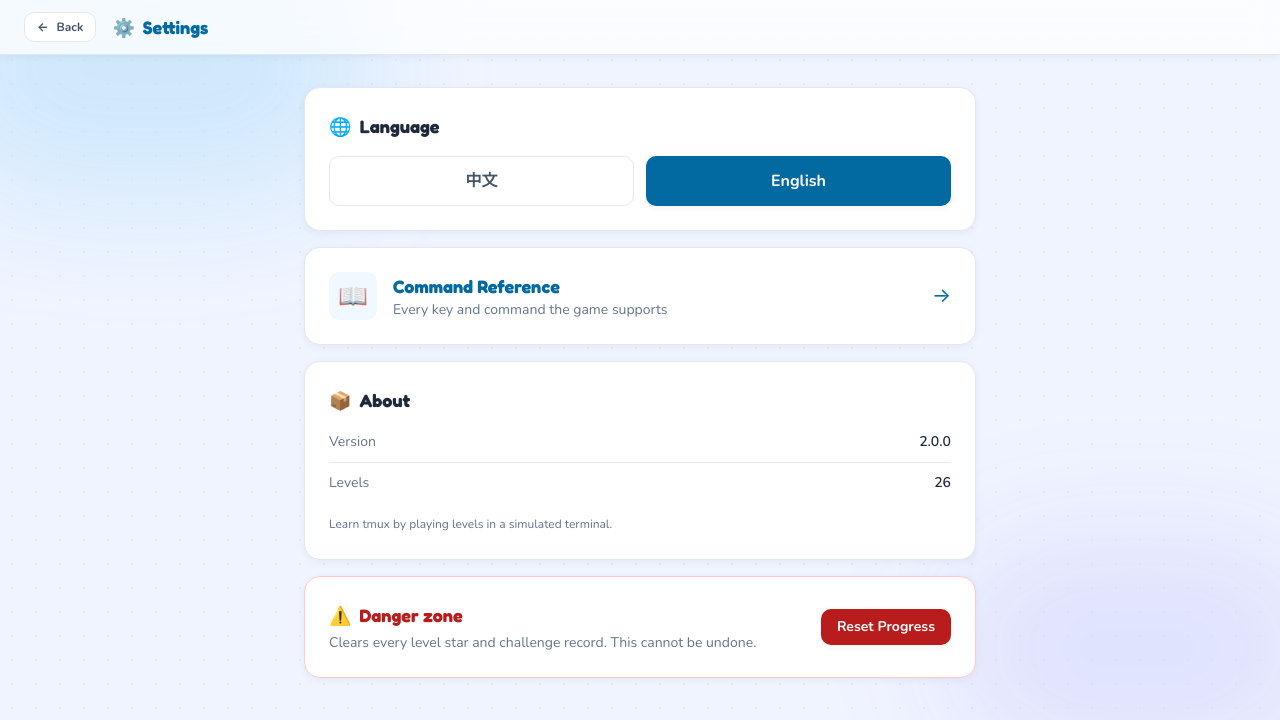
Test case: SettingsScreen › clears the progress when confirmed
Click the button "Reset Progress". click: point(886, 626)
box: left=821, top=608, right=951, bottom=644
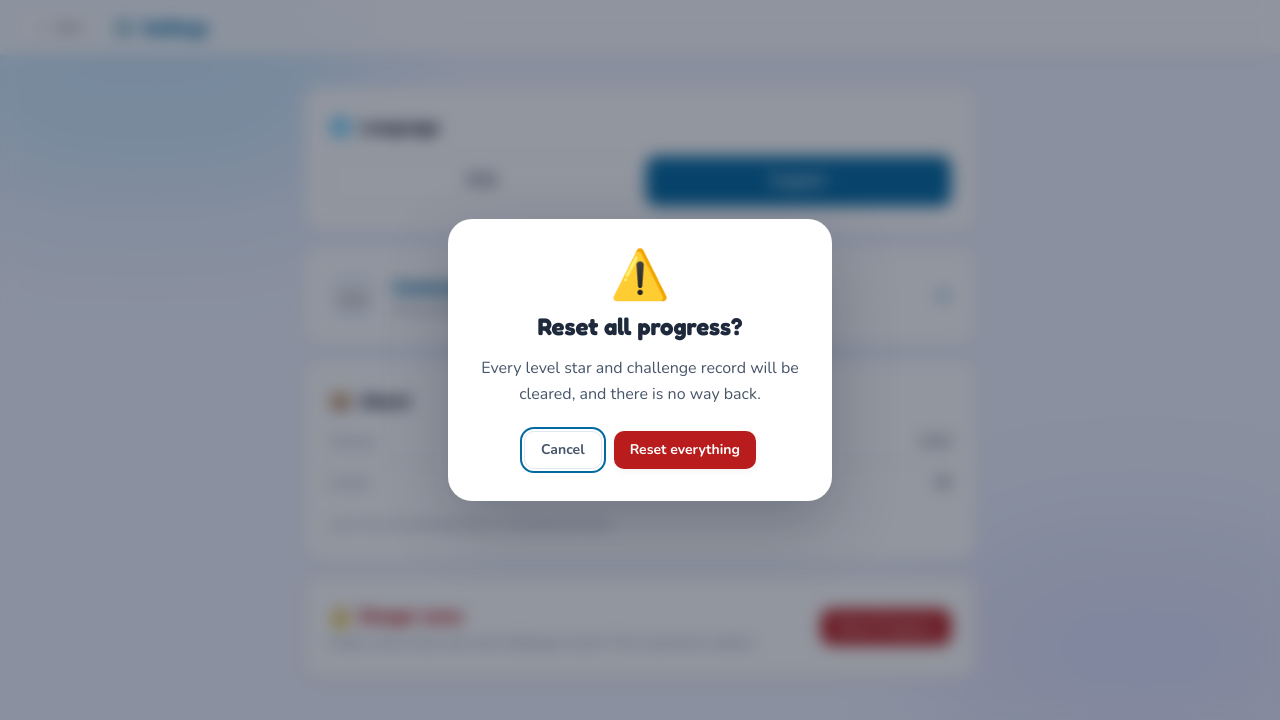
Click the button "Reset everything". click: point(685, 450)
box: left=614, top=431, right=756, bottom=469
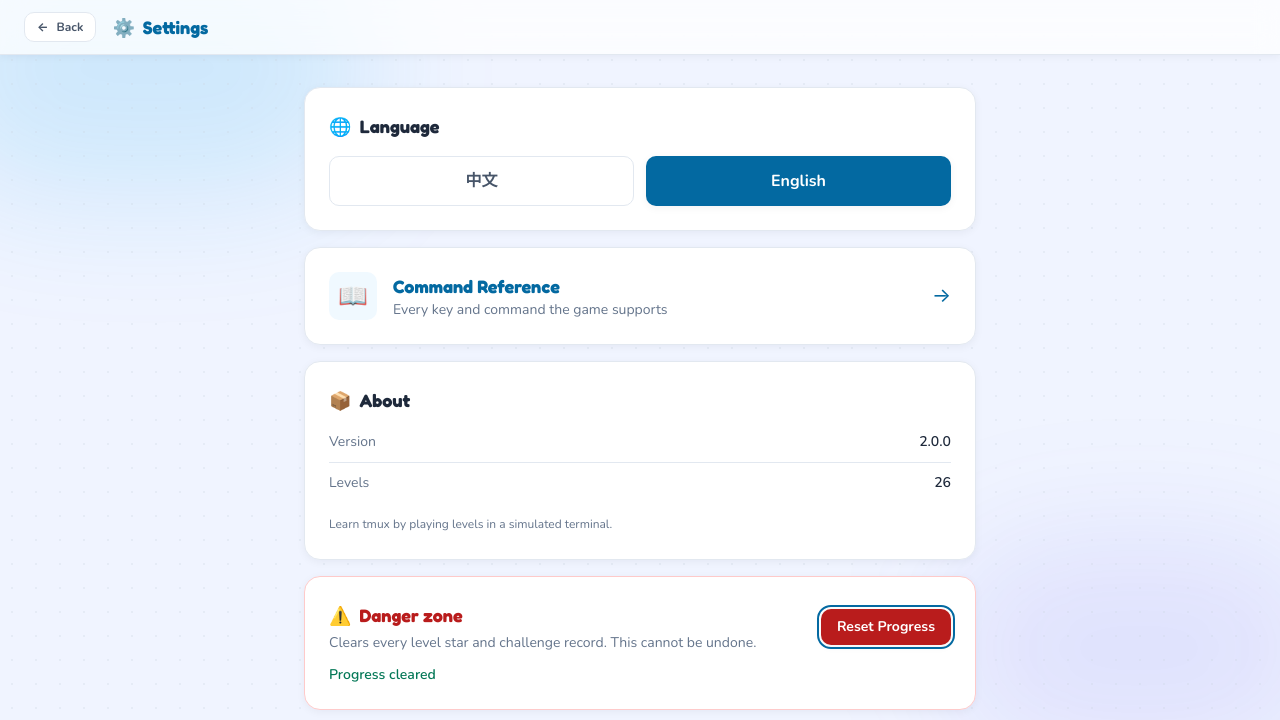
Check: the dialog is gone
Check: the message reads "Progress cleared", box left=329, top=664, right=436, bottom=684
